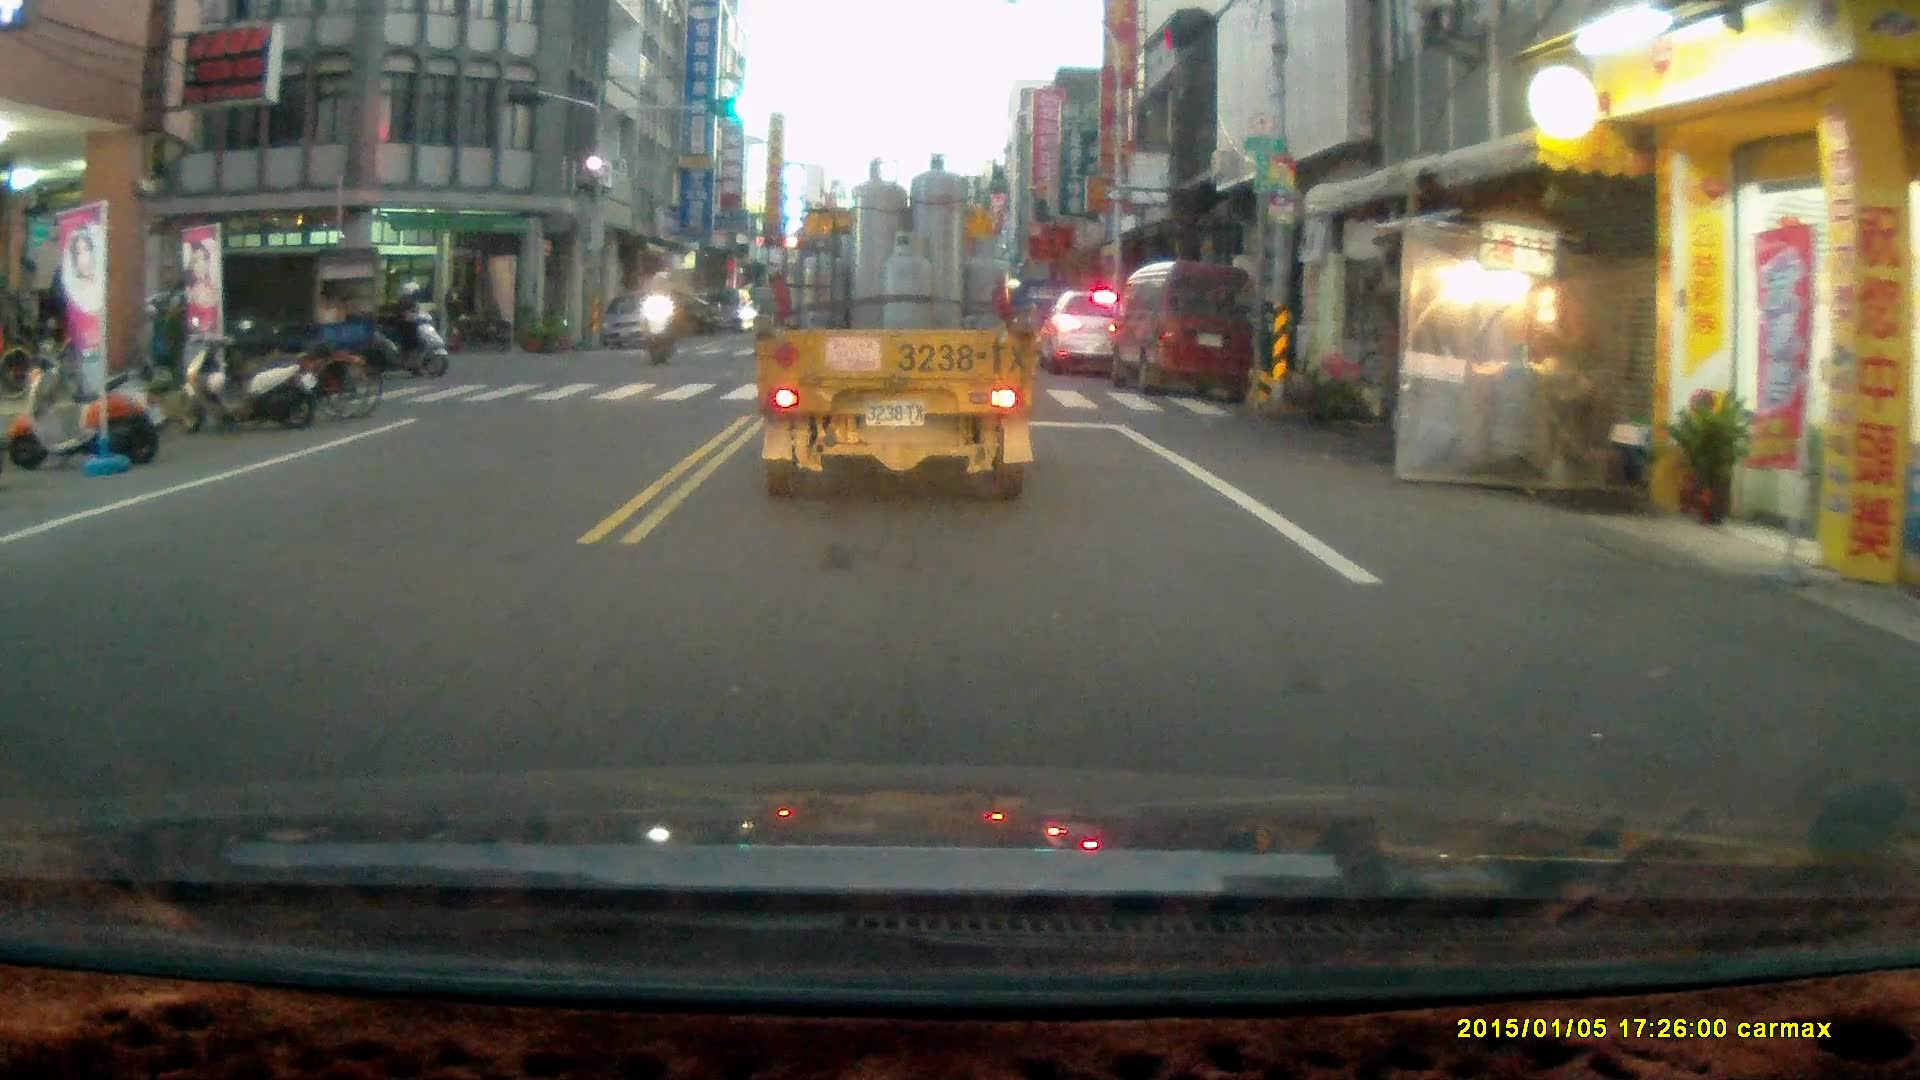pedestrian: (440, 273, 466, 352)
rider: (371, 283, 451, 384), (635, 268, 684, 368)
vehicle: (753, 163, 1029, 512), (117, 247, 386, 397), (1105, 263, 1262, 411), (1045, 289, 1134, 379), (601, 292, 677, 352), (694, 284, 754, 332)
